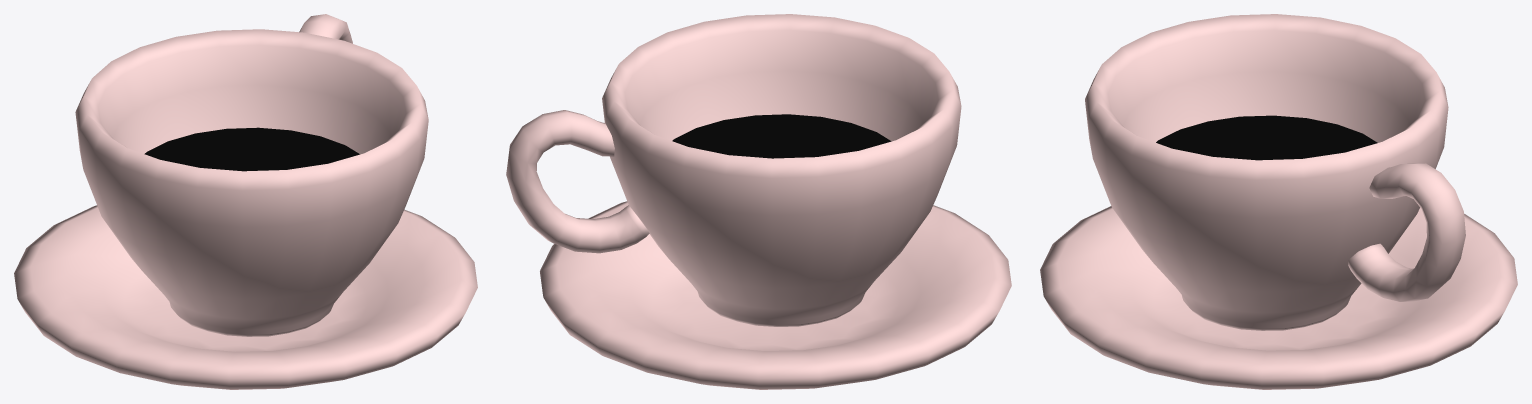
Rendered from coffee_cup_1.glb.
The picture shows the model from 3 angles, left to right: view 1: azimuth 30°, elevation 25°; view 2: azimuth 150°, elevation 25°; view 3: azimuth 270°, elevation 25°; orthographic projection. The views are drawn at different scales.
Visible parts, largest first — view 1: Cup.001, Circle.094, Cup.002; view 2: Cup.001, Circle.094, Cup.002; view 3: Cup.001, Circle.094, Cup.002.
Part boxes in pixels (box(x1,y1,x2,y2)): Cup.001: box(75, 14, 428, 336); Circle.094: box(14, 205, 477, 389); Cup.002: box(144, 127, 359, 171); Cup.001: box(506, 14, 961, 326); Circle.094: box(540, 201, 1011, 389); Cup.002: box(672, 114, 891, 158); Cup.001: box(1085, 14, 1465, 330); Circle.094: box(1040, 206, 1517, 389); Cup.002: box(1156, 115, 1377, 160).
Size of the model in its own units: 0.3884 by 0.2219 by 0.3884.
